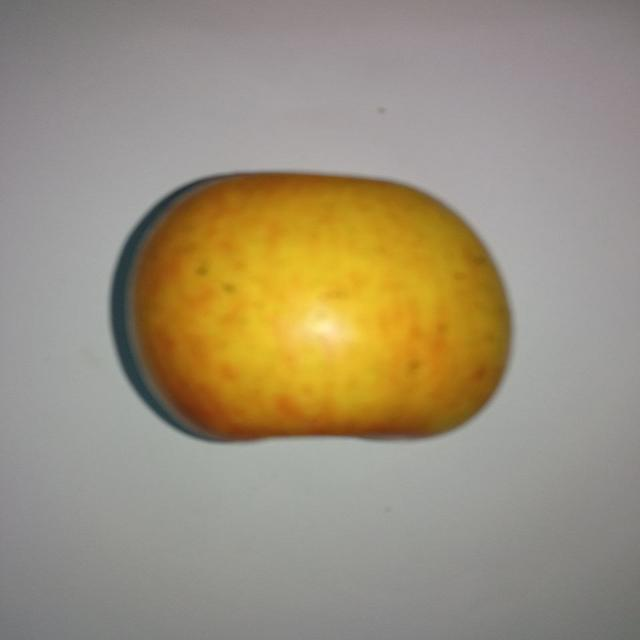fresh_apple: (119, 170, 513, 444)
